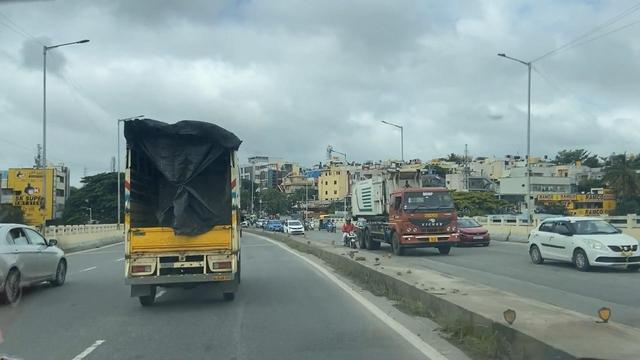HMV: (120, 107, 245, 313), (342, 164, 460, 257)
